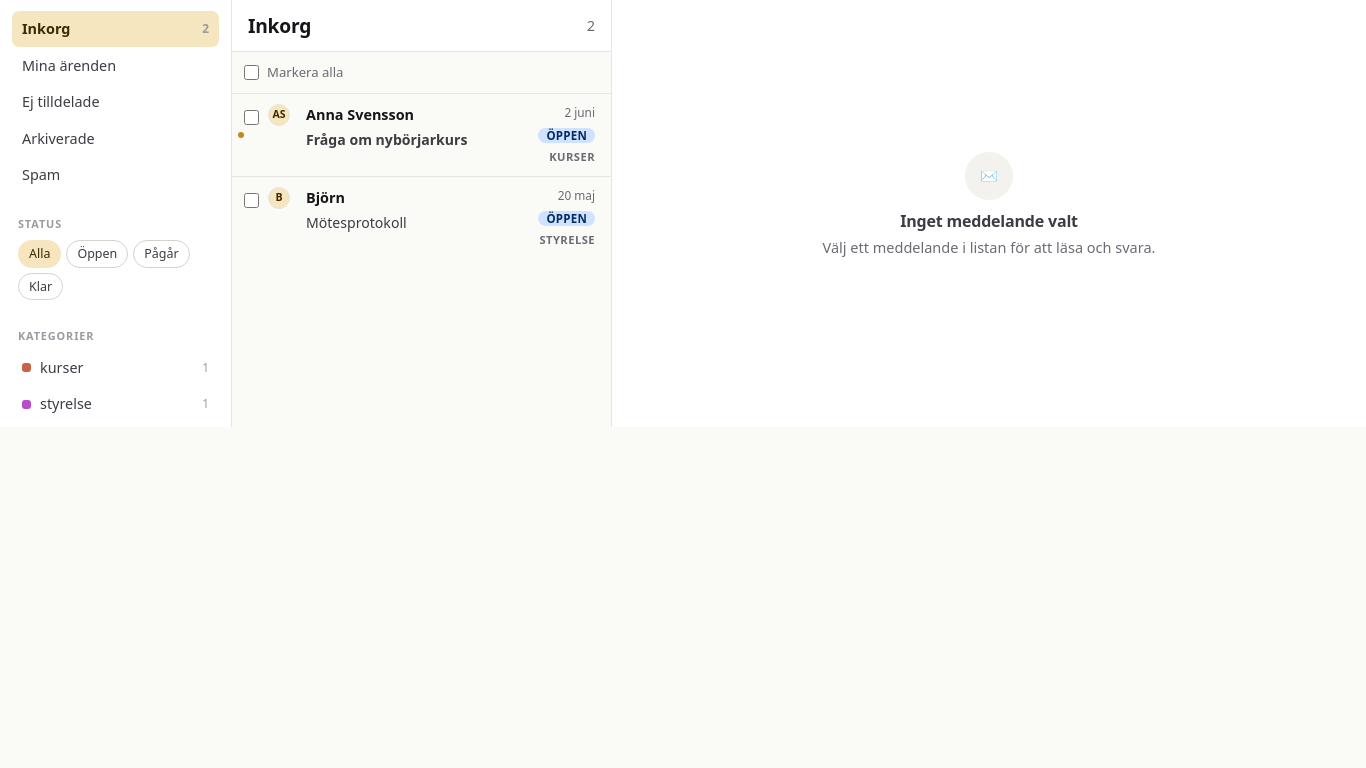
it: InboxView (integration with store + fetch shim) › selecting a message puts it in the URL and opens it
The image size is (1366, 768).
Click the button with class "list-item" that starts with "Anna Svensson". click: (422, 136)
box: [232,94,611,177]
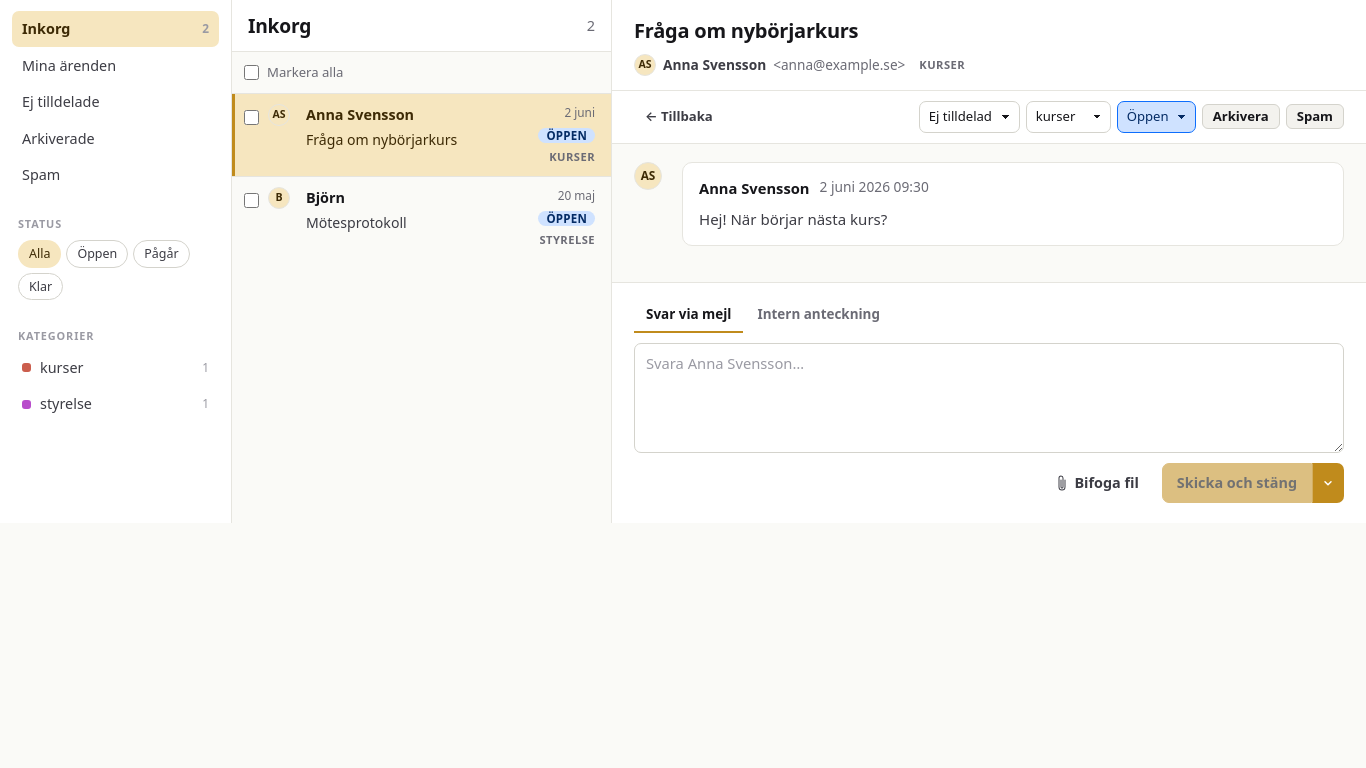
Expected: the element that starts with "Fråga om nybörjarkurs" shows "nästa kurs", [699,209,887,229]
